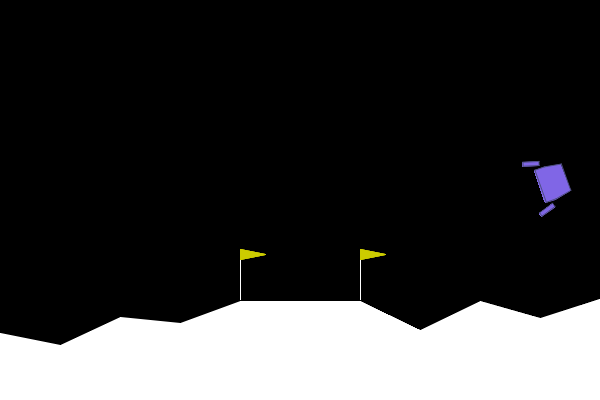lander: (520, 149, 578, 219)
